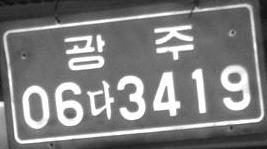0: (21, 83, 50, 129)
1: (185, 67, 214, 114)
3: (116, 74, 146, 121)
4: (151, 70, 181, 116)
6: (53, 80, 84, 127)
9: (219, 63, 251, 111)
광주_D: (63, 23, 194, 71)
다: (86, 79, 115, 120)
